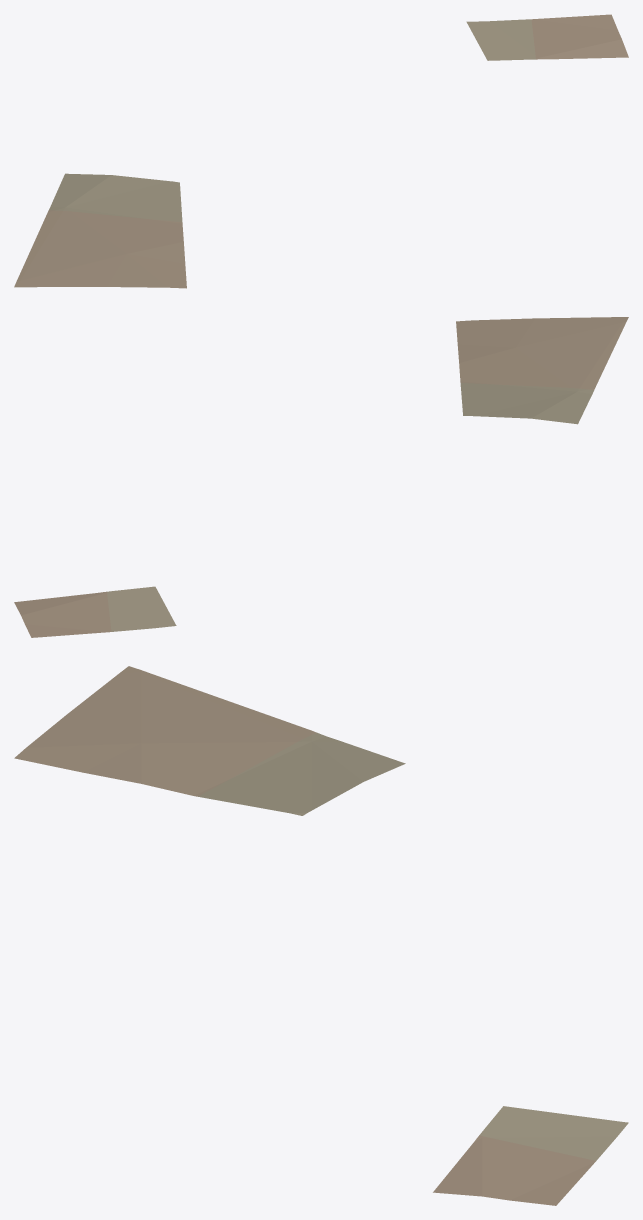
File: farm_7_-4_soil.glb
3 views of the same model, one above another, from view 1: azimuth 30°, elevation 25°; view 2: azimuth 210°, elevation 25°; view 3: azimuth 270°, elevation 25° (orthographic). The views are drawn at different scales.
Visible parts, largest first — view 1: geometry_0; view 2: geometry_0; view 3: geometry_0.
Part boxes in pixels (<box>): geometry_0: <box>14,14,628,288</box>; geometry_0: <box>14,317,628,637</box>; geometry_0: <box>14,666,628,1205</box>.
Bounding box in the file's own units: 563 × 23.62 × 289.
